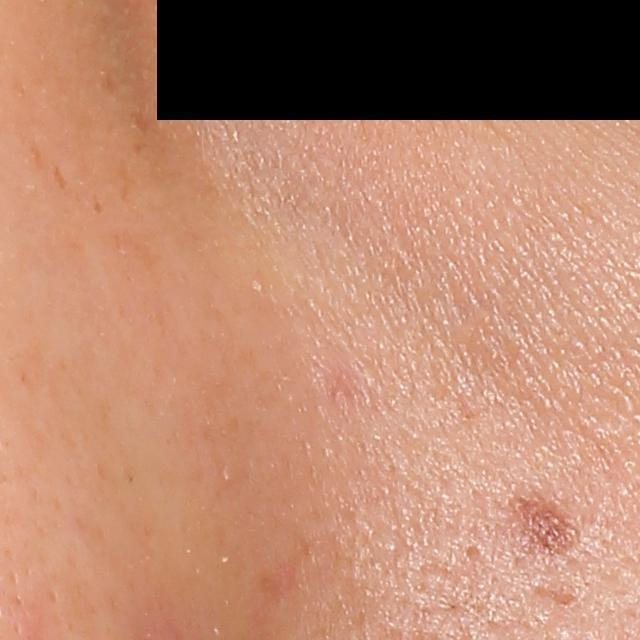comedo: (458, 541, 486, 571)
nevus: (509, 495, 580, 554)
